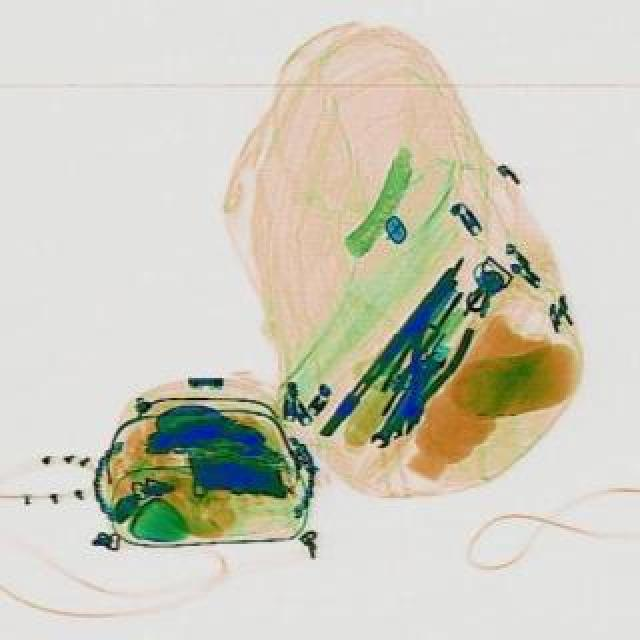scissors: (362, 342, 448, 452)
wrench: (376, 312, 472, 440)
